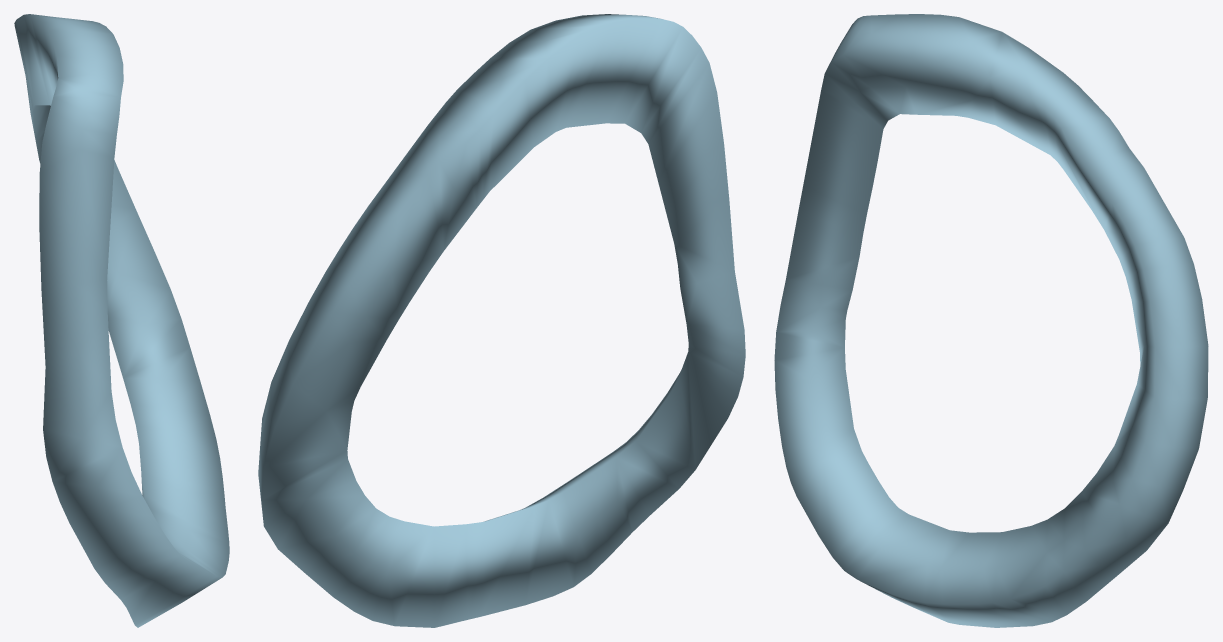
File: articulacoes-glenoid-labrum-l.glb
3 renders of one model, left to right at view 1: azimuth 30°, elevation 25°; view 2: azimuth 150°, elevation 25°; view 3: azimuth 270°, elevation 25°, orthographic. The views are drawn at different scales.
Visible parts, largest first — view 1: Glenoid labrum.l; view 2: Glenoid labrum.l; view 3: Glenoid labrum.l.
Boxes of the visible parts, x1=… form: Glenoid labrum.l: x1=14, y1=14, x2=229, y2=627; Glenoid labrum.l: x1=258, y1=14, x2=745, y2=627; Glenoid labrum.l: x1=774, y1=14, x2=1208, y2=627.
Bounding box in the file's own units: 0.019 × 0.0358 × 0.0252.
